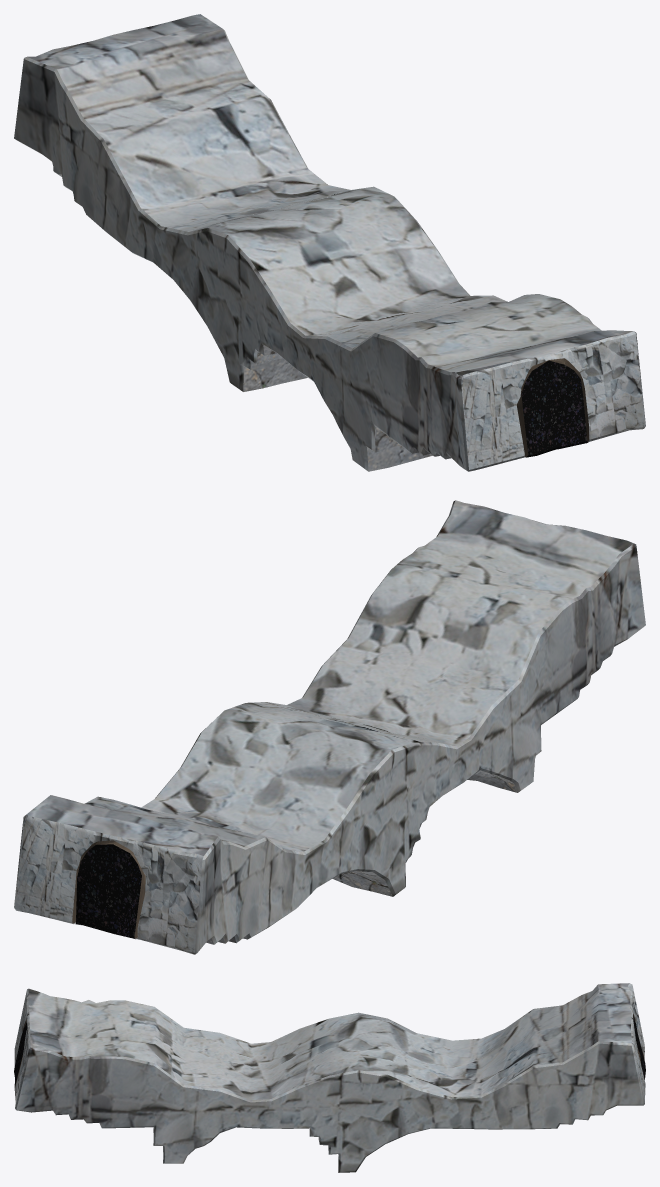
Rendered from Final Tutorial.fbx.
3 renders of one model, top to bottom at view 1: azimuth 30°, elevation 25°; view 2: azimuth 150°, elevation 25°; view 3: azimuth 270°, elevation 25°, orthographic. The views are drawn at different scales.
Visible parts, largest first — view 1: Tutorial_2; view 2: Tutorial_2; view 3: Tutorial_2.
Boxes of the visible parts, box(x1,y1,x2,y2) form: Tutorial_2: box(14, 14, 645, 471); Tutorial_2: box(14, 500, 645, 954); Tutorial_2: box(14, 983, 645, 1172).
Size of the model in its own units: 767 by 752 by 3250.
